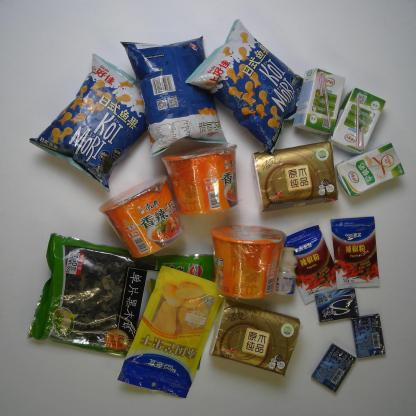Dried Food: (23, 232, 215, 370)
Dried Fruit: (116, 264, 230, 401)
Gum: (312, 343, 354, 392), (350, 310, 386, 358), (308, 289, 360, 322)
Instant Noodles: (96, 174, 185, 258), (206, 215, 287, 306), (162, 137, 240, 215)
Milk: (336, 136, 408, 200), (328, 87, 390, 155), (294, 64, 347, 137), (271, 242, 300, 298)
Puffed Food: (26, 53, 160, 191), (185, 17, 312, 156), (116, 33, 231, 157)
Seasoner: (279, 223, 344, 304), (328, 213, 380, 289)
Tissue: (207, 296, 302, 380), (250, 137, 341, 214)
